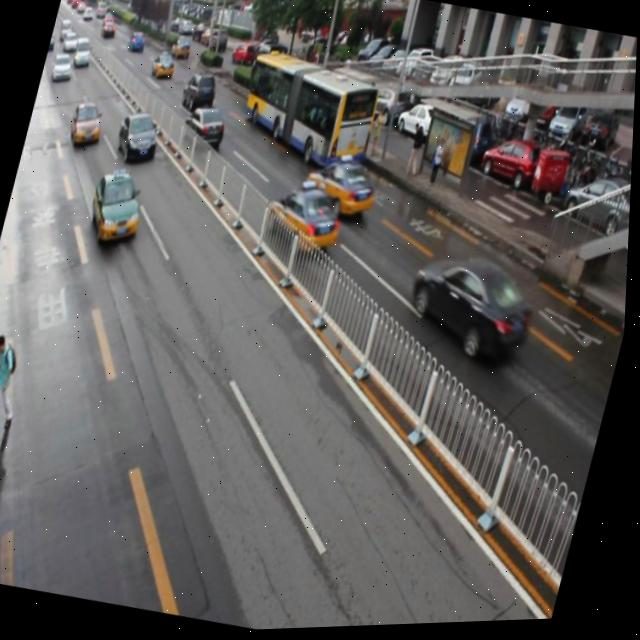car: (400, 247, 545, 374), (259, 177, 350, 260), (301, 149, 385, 224), (84, 162, 154, 251), (113, 110, 165, 167), (179, 103, 229, 155), (67, 99, 108, 151), (179, 70, 220, 116)
van: (231, 43, 388, 180)
